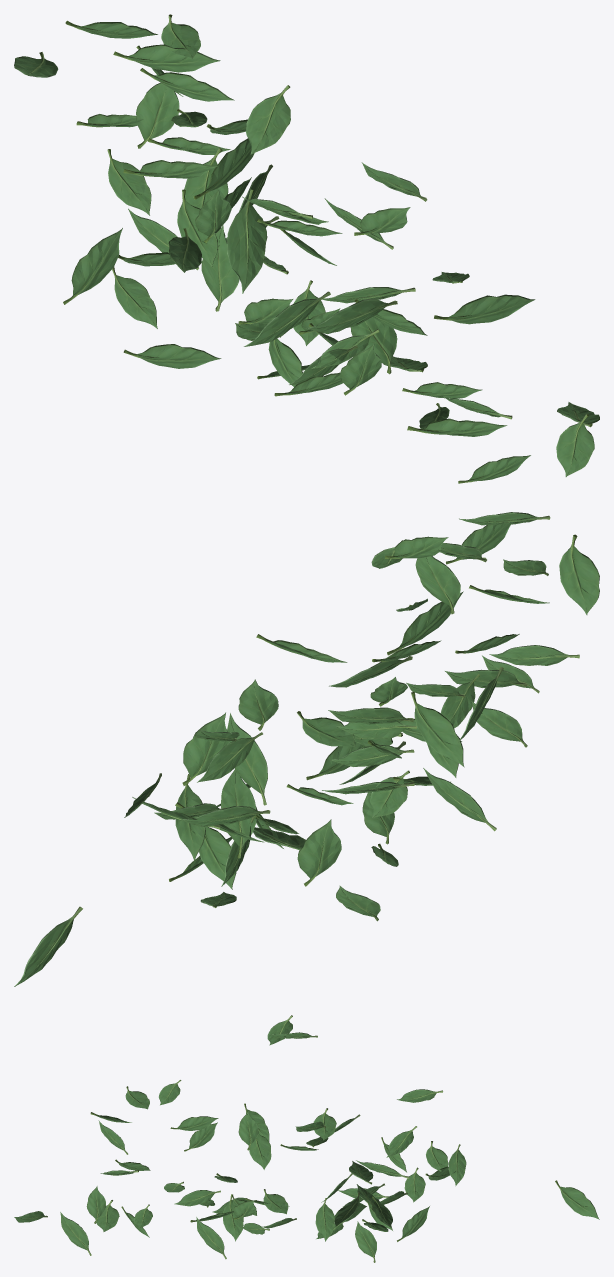
The model's file is holy_canopy16_full.glb.
3 views of the same model, one above another, from view 1: azimuth 30°, elevation 25°; view 2: azimuth 150°, elevation 25°; view 3: azimuth 270°, elevation 25° (orthographic). The views are drawn at different scales.
Visible parts, largest first — view 1: holy_canopy16; view 2: holy_canopy16; view 3: holy_canopy16.
Part boxes in pixels (box(x1,y1,x2,y2)): holy_canopy16: box(14, 14, 599, 483); holy_canopy16: box(14, 512, 599, 986); holy_canopy16: box(14, 1015, 599, 1262).
Bounding box in the file's own units: 9.85 × 10.54 × 29.01.
Materials: 1 (1 with a texture image).
